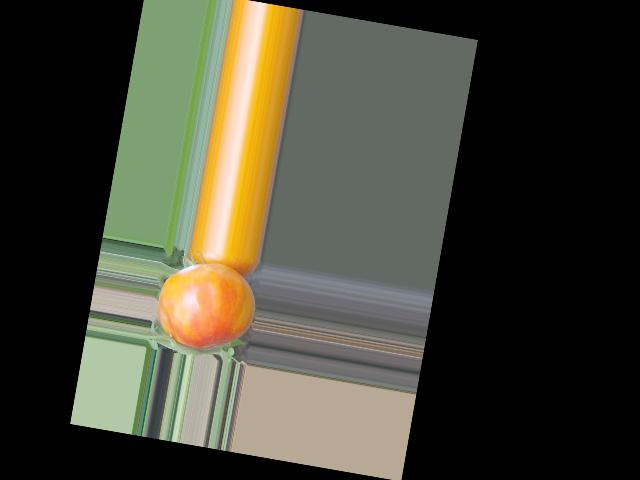tomato: (151, 255, 261, 356)
